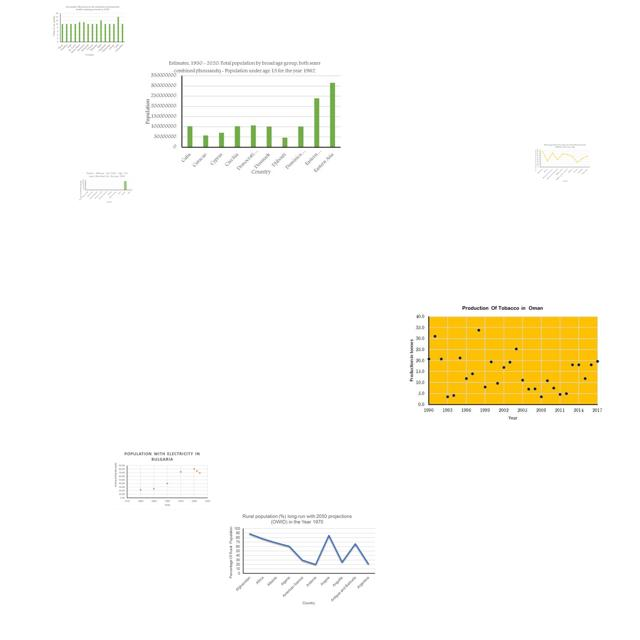Graph: (404, 302, 606, 425), (144, 58, 344, 176), (225, 511, 377, 607), (112, 449, 213, 510), (51, 4, 126, 58), (534, 143, 591, 183), (78, 171, 134, 204)
